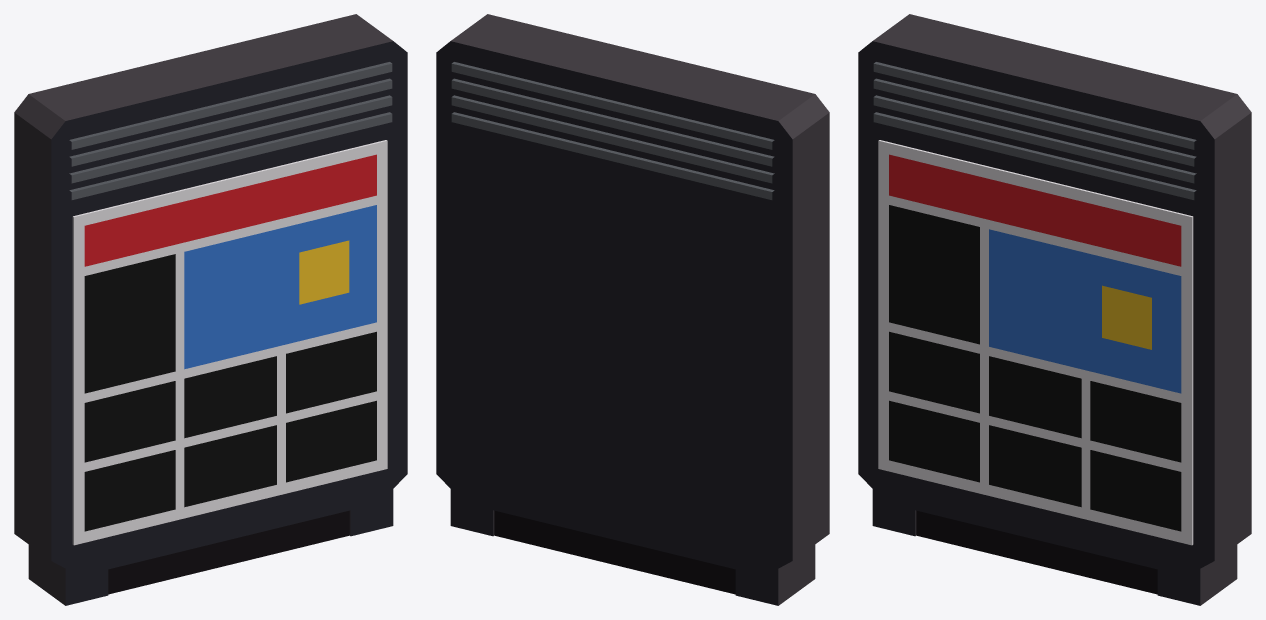
File: mastersystem.obj
3 views of the same model, side by side, from view 1: azimuth 30°, elevation 25°; view 2: azimuth 150°, elevation 25°; view 3: azimuth 330°, elevation 25° (orthographic).
Visible parts, largest first — view 1: mastersystem; view 2: mastersystem; view 3: mastersystem.
Boxes of the visible parts, <box> form: mastersystem: <box>14,14,407,605</box>; mastersystem: <box>436,14,829,605</box>; mastersystem: <box>858,14,1251,605</box>.
Size of the model in its own units: 10 by 13 by 2.04.
